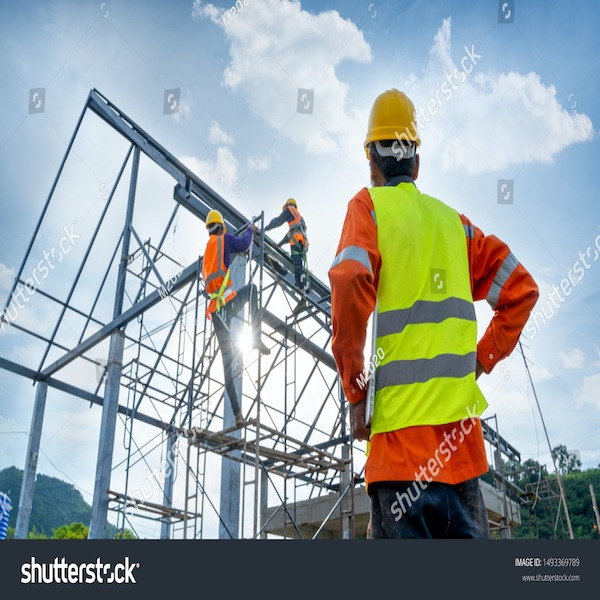helmet: (365, 90, 426, 155), (204, 208, 228, 229)
vest: (369, 186, 486, 417), (200, 231, 235, 315), (283, 207, 311, 253)
